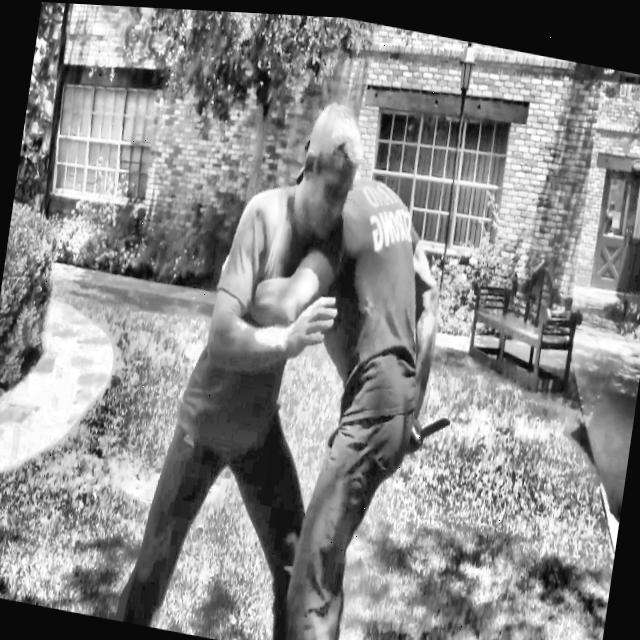robbery: (108, 18, 486, 640)
